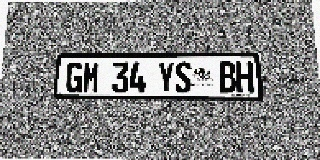3: (112, 62, 129, 93)
4: (129, 62, 146, 93)
B: (218, 62, 236, 93)
G: (65, 62, 83, 93)
H: (236, 62, 254, 93)
M: (82, 62, 100, 93)
S: (175, 62, 192, 93)
Y: (158, 62, 174, 93)
